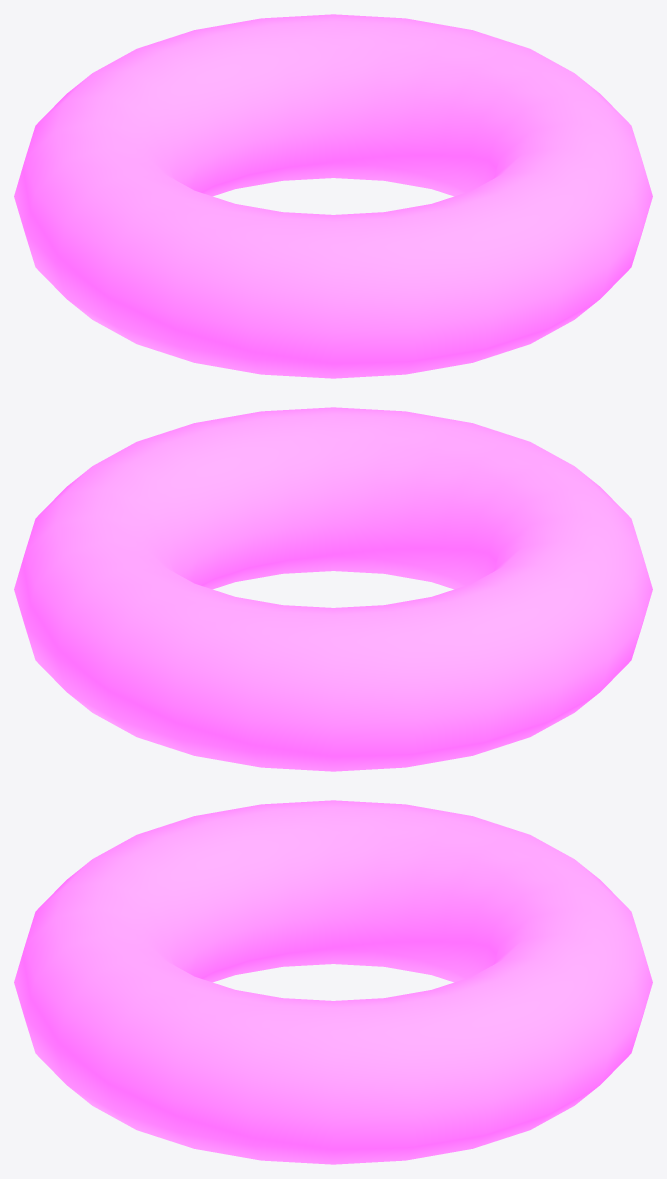
File: pu_magnet.glb
3 views of the same model, one above another, from view 1: azimuth 30°, elevation 25°; view 2: azimuth 150°, elevation 25°; view 3: azimuth 270°, elevation 25° (orthographic).
Parts seen in each view (by area): view 1: pu_magnet; view 2: pu_magnet; view 3: pu_magnet.
Part boxes in pixels (x1,y1,x2,y2): pu_magnet: (14, 14, 652, 378); pu_magnet: (14, 407, 652, 771); pu_magnet: (14, 800, 652, 1164).
Size of the model in its own units: 0.7 by 0.18 by 0.7.
